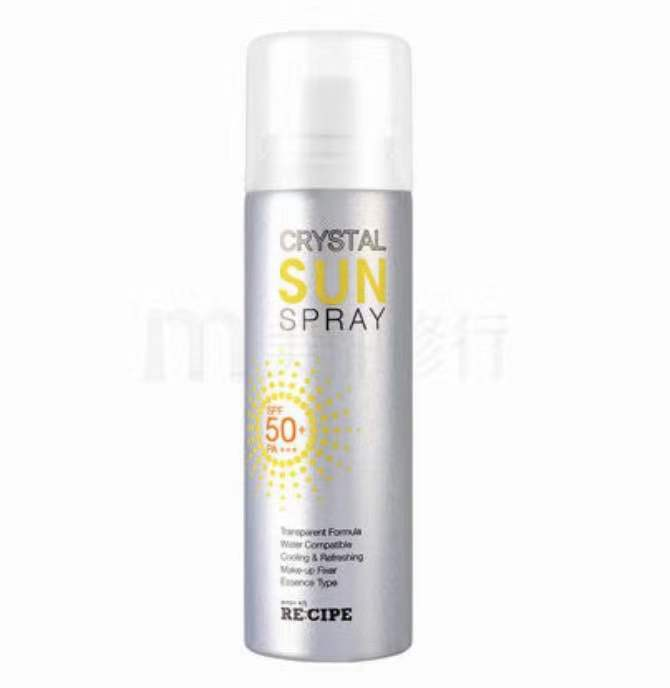cosmetic: (246, 32, 418, 660)
